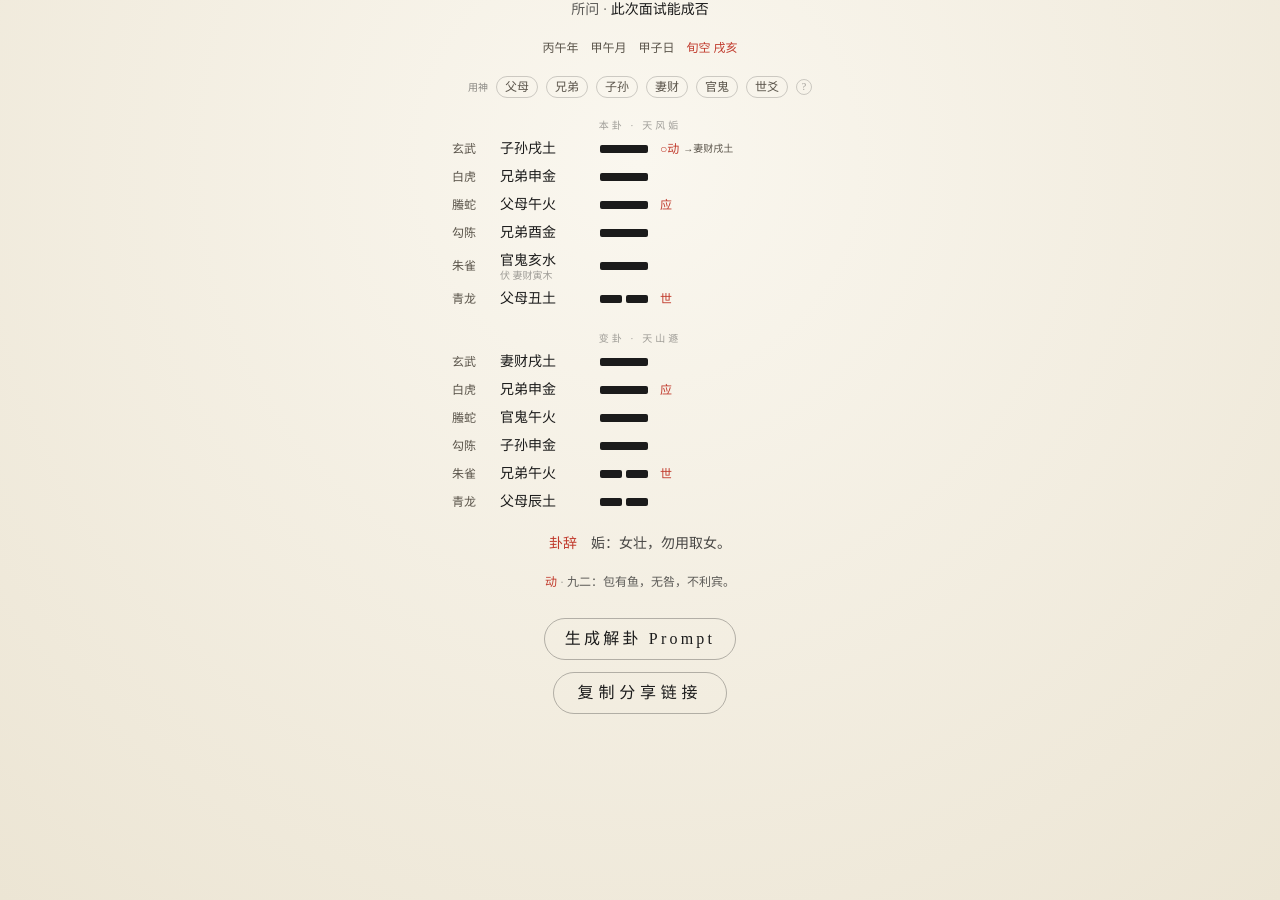
Test case: ResultView › 用神（上卦单/多现）只在本卦按爻位高亮、变卦不染，并出现分析面板
The image size is (1280, 900).
Click the button with test id "yongshen-父母": click(517, 87) [496,76,538,98]
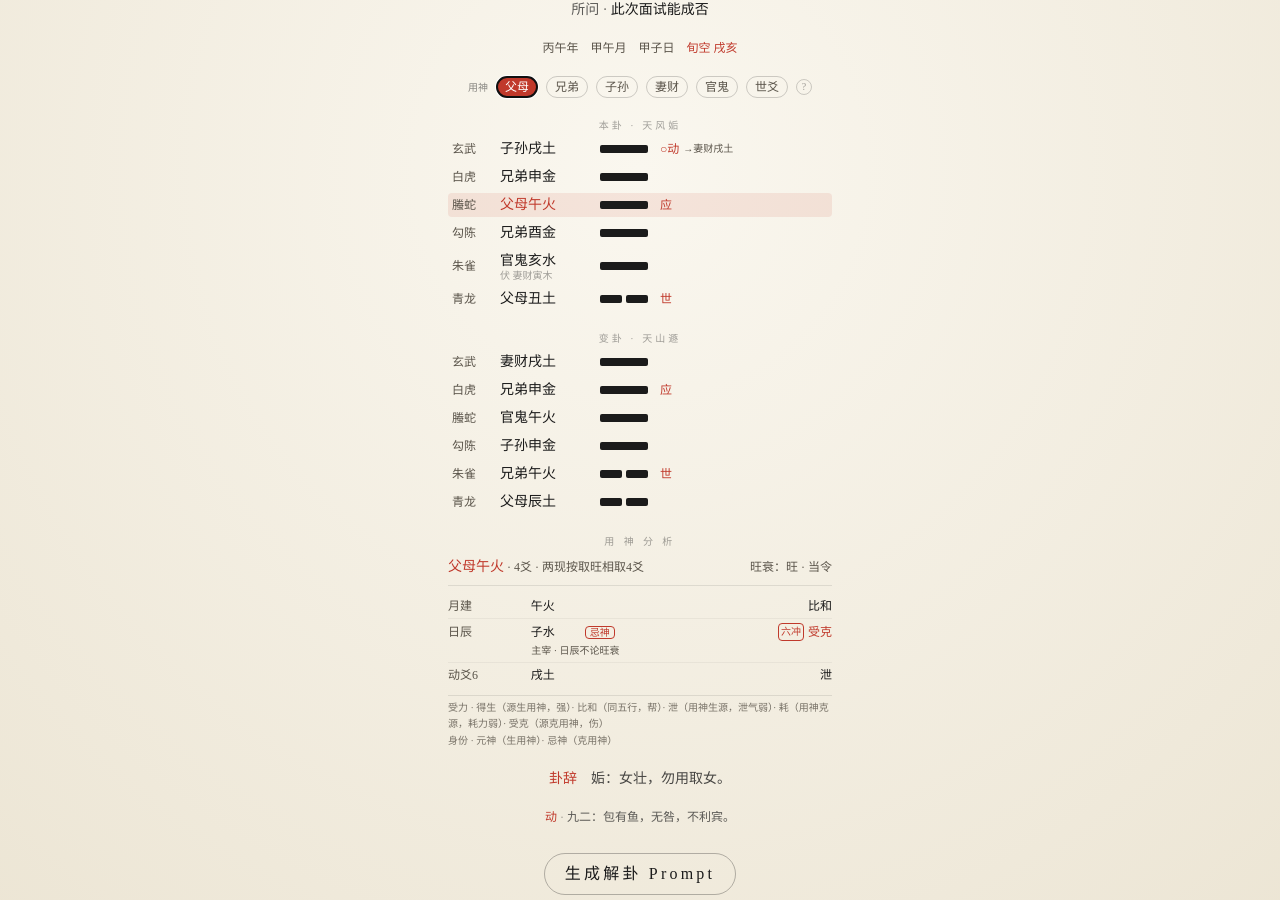
Expected: the element with test id "yongshen-panel" is shown, [448,534,832,749]
Expected: the element with test id "force-row" showing "月建 午火 比和" is shown, [448,599,832,613]
